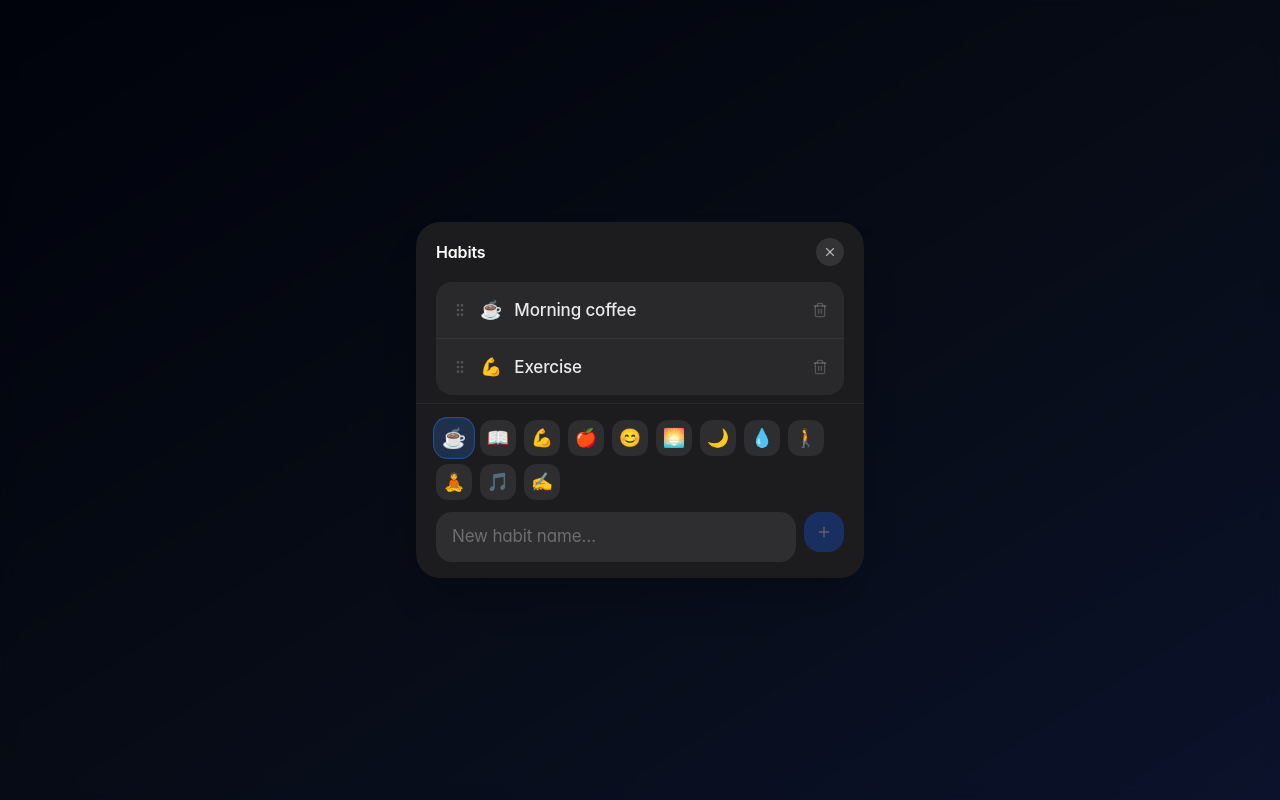
Test: HabitsManager › enters edit mode when a habit label is clicked
Click the text "Morning coffee" at (575, 310), box [514,300,636,320]
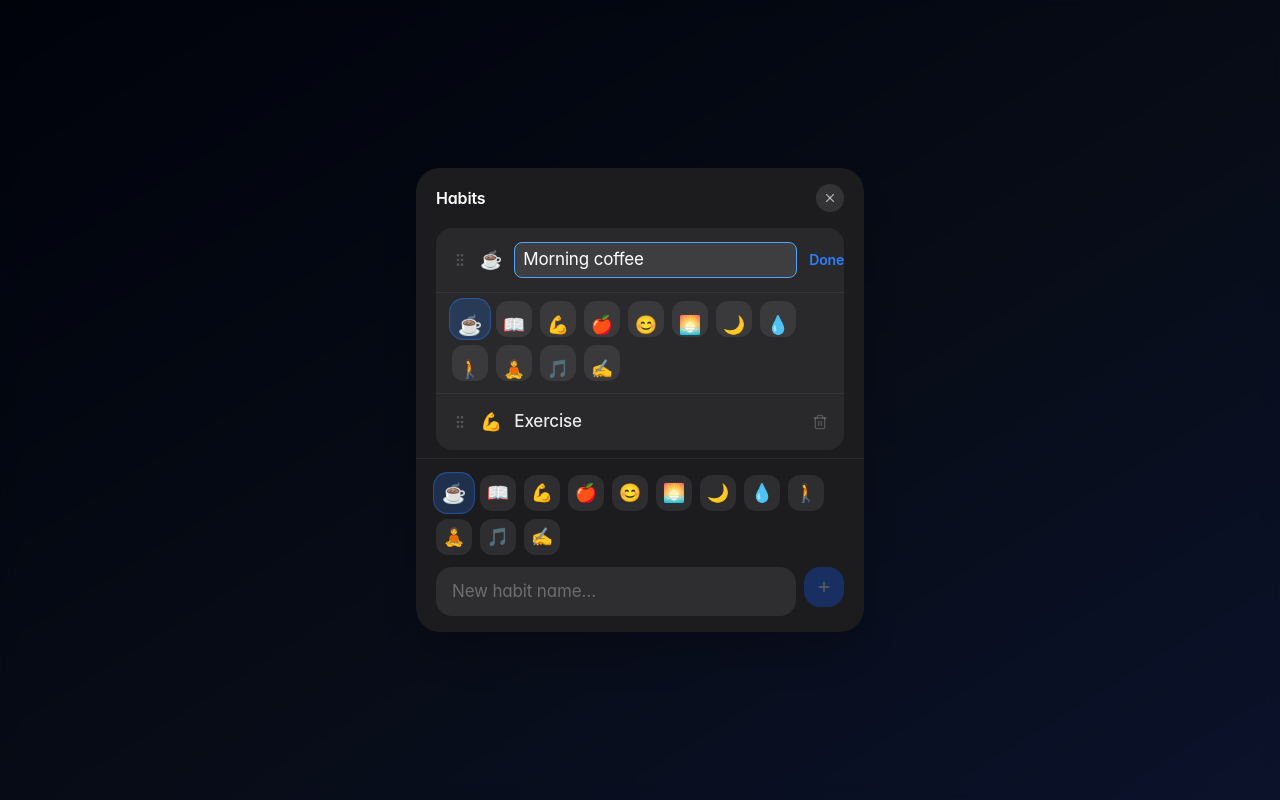
Expected: the field showing "Morning coffee" is shown, [514,242,797,278]
